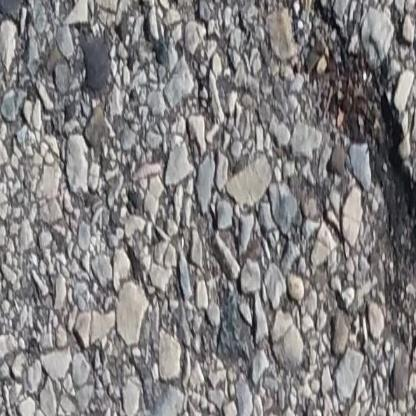Cracks: (286, 0, 416, 406)
